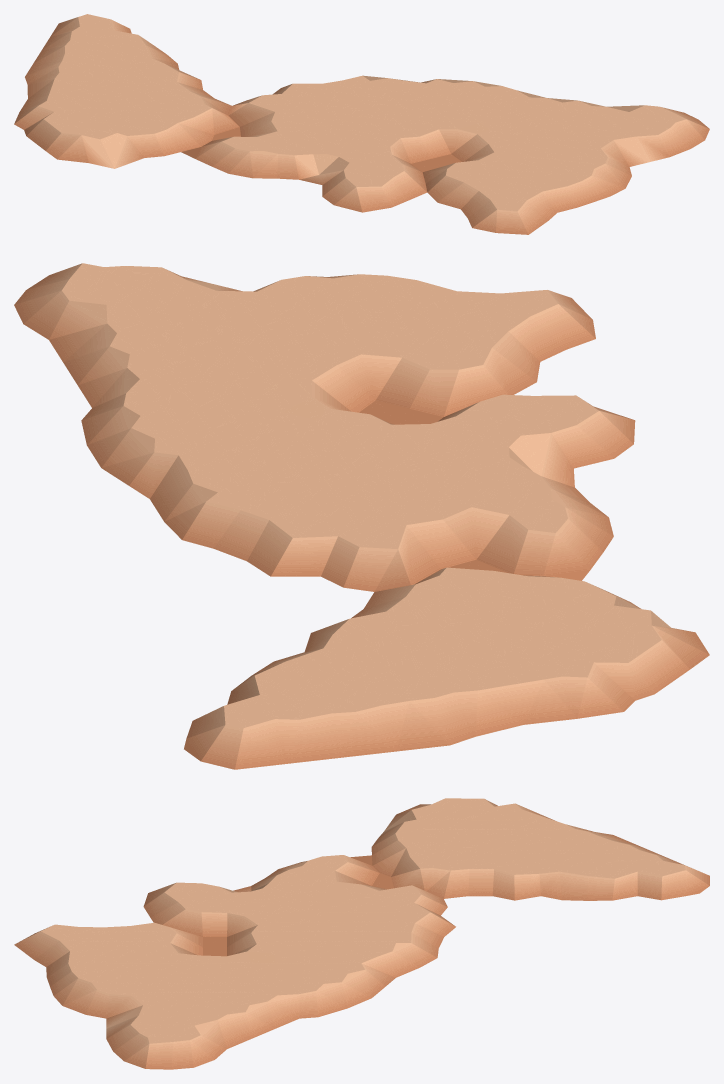
Rendered from twin-island-50.glb.
3 renders of one model, top to bottom at view 1: azimuth 30°, elevation 25°; view 2: azimuth 150°, elevation 25°; view 3: azimuth 270°, elevation 25°, orthographic. The views are drawn at different scales.
Visible parts, largest first — view 1: twin-island; view 2: twin-island; view 3: twin-island.
Part boxes in pixels (x1=…): twin-island: x1=14, y1=14, x2=709, y2=234; twin-island: x1=14, y1=263, x2=709, y2=769; twin-island: x1=14, y1=798, x2=709, y2=1069.
Bounding box in the file's own units: 219 × 8.08 × 242.
Materials: 1 (1 with a texture image).
